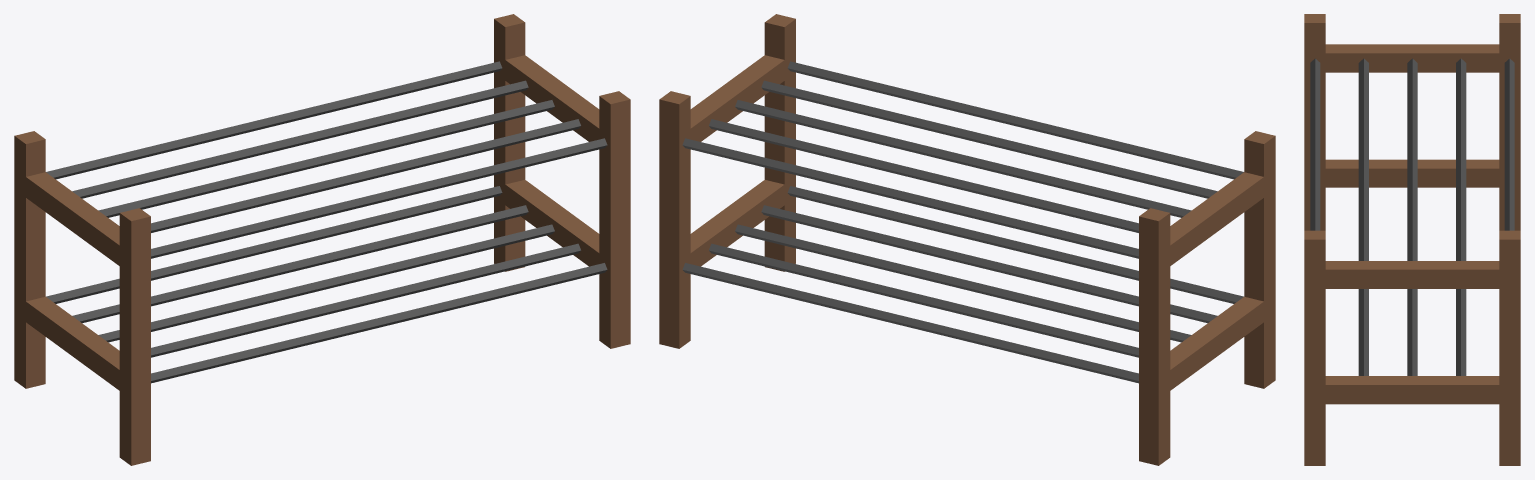
Rendered from ShoeRack3.fbx.
The picture shows the model from 3 angles, left to right: view 1: azimuth 30°, elevation 25°; view 2: azimuth 150°, elevation 25°; view 3: azimuth 270°, elevation 25°; orthographic projection. The views are drawn at different scales.
Visible parts, largest first — view 1: ShoeRack3; view 2: ShoeRack3; view 3: ShoeRack3.
Part boxes in pixels (box(x1,y1,x2,y2)): ShoeRack3: box(14, 14, 630, 465); ShoeRack3: box(659, 14, 1275, 465); ShoeRack3: box(1304, 14, 1520, 465).
Bounding box in the file's own units: 79 × 37 × 32.
